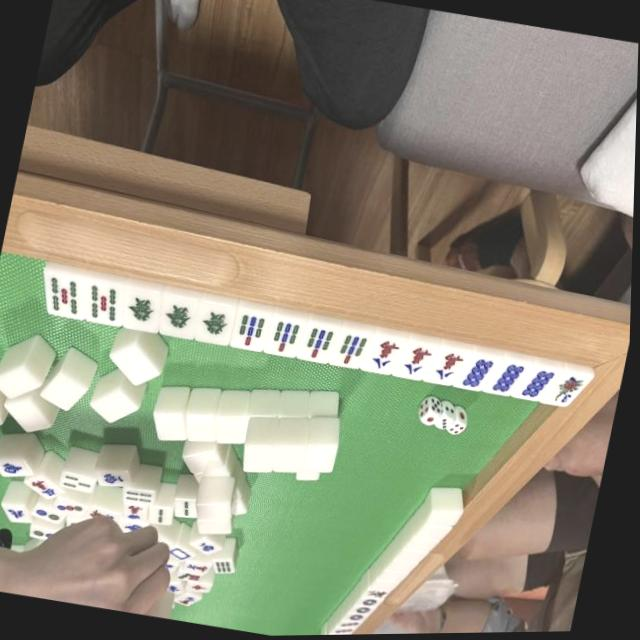bf3: (554, 368, 585, 411)
hdg: (123, 287, 163, 333), (198, 301, 237, 347), (162, 293, 200, 339)
sb5: (43, 268, 87, 318), (83, 276, 128, 324)
sb7: (233, 306, 271, 352), (268, 313, 306, 359), (303, 318, 340, 363), (337, 326, 372, 370)
sc8: (401, 339, 436, 383), (434, 344, 467, 389), (369, 334, 404, 375)
sd8: (492, 356, 529, 401), (521, 360, 558, 405), (463, 351, 496, 394)
